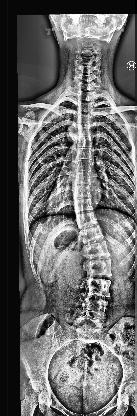Vertebrae: (68, 299, 112, 317), (78, 278, 116, 298), (78, 260, 118, 274), (72, 228, 112, 242), (76, 245, 118, 257), (71, 213, 105, 227), (68, 200, 100, 212), (70, 186, 98, 198), (71, 172, 95, 184), (72, 124, 96, 136), (73, 148, 96, 160), (73, 112, 96, 124), (75, 136, 96, 148), (73, 160, 94, 170), (76, 102, 96, 112), (78, 91, 98, 101)
